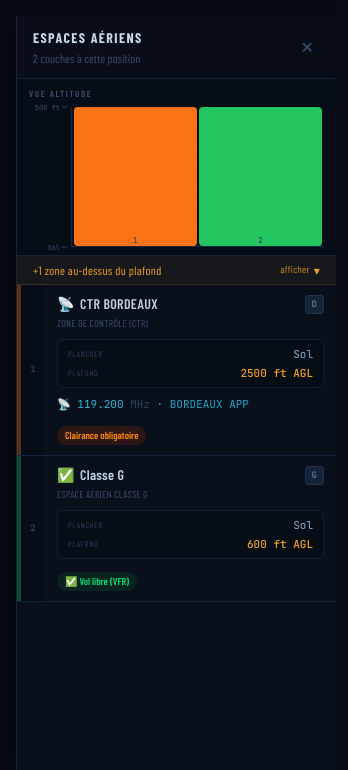
ZoneStack › affiche les zones au-dessus du plafond au clic sur la notice
expect the text "TMA AQUITAINE 2.1" is not shown: met
Click the button with test id "hidden-zones-notice" at [113, 270], box [17,256,336,284]
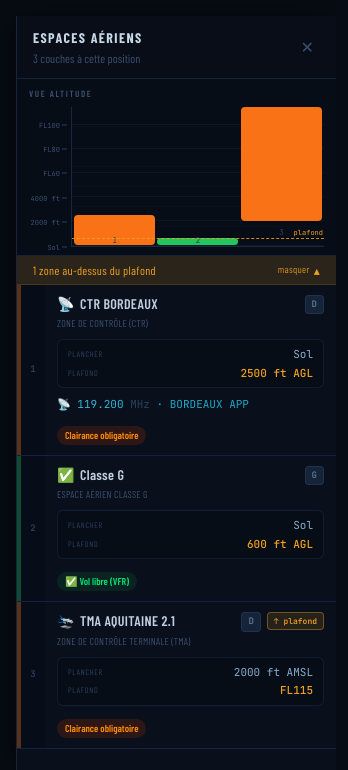
expect the text "TMA AQUITAINE 2.1" is shown: met, box [80,612,175,629]
expect the text "3 couches à cette position" is shown: met, box [33,50,143,66]
